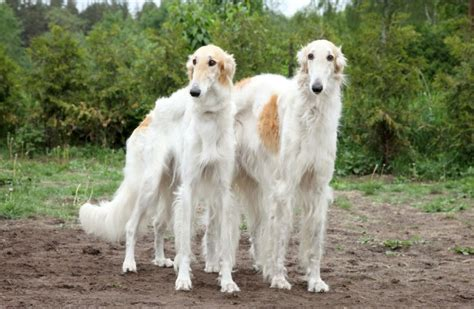borzoi: (78, 43, 237, 294), (238, 37, 380, 293)
